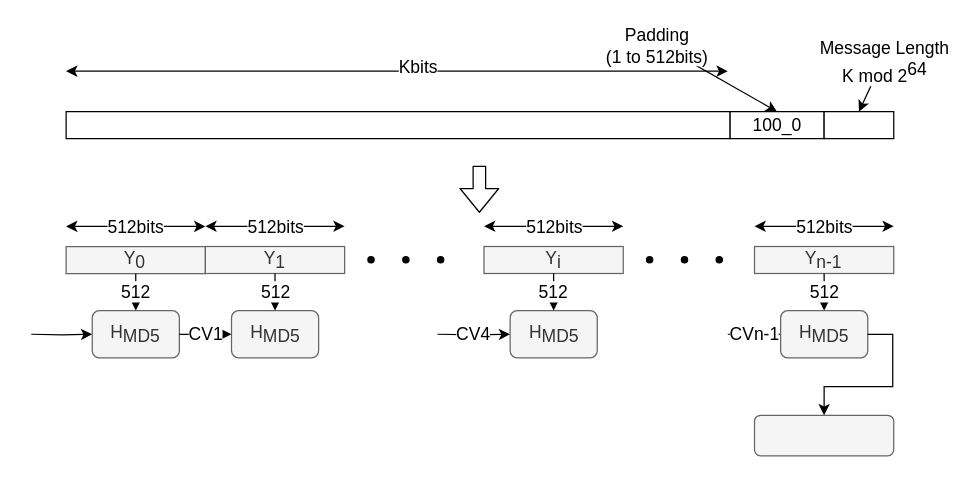
Image size: 970x479. Some labels were removed from this diagram. Here are the shapes that lost their labels. From the top down, the centre of each, then its label:
At (x=397, y=124): "Message".
At (x=823, y=435): "128bits digest".
